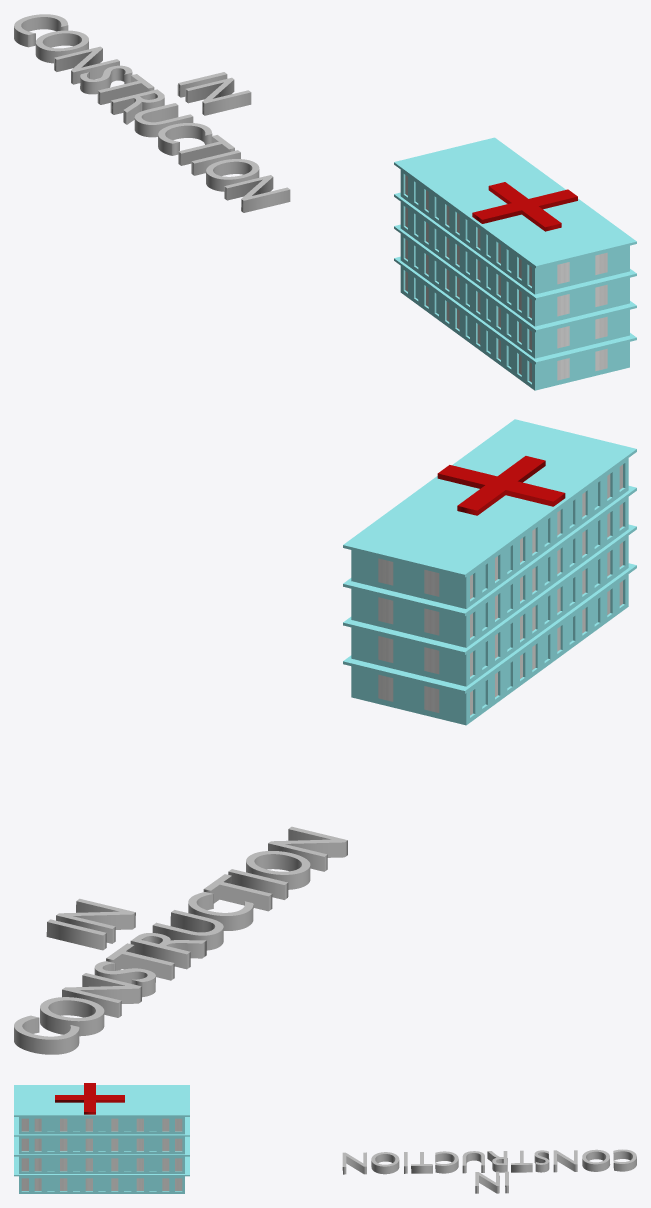
Rendered from Medic2.obj.
3 views of the same model, one above another, from view 1: azimuth 30°, elevation 25°; view 2: azimuth 150°, elevation 25°; view 3: azimuth 270°, elevation 25° (orthographic). The views are drawn at different scales.
Parts seen in each view (by area): view 1: Plane.071, Text.001, Text.037; view 2: Plane.071, Text.001, Text.037; view 3: Plane.071, Text.001, Text.037.
Boxes of the visible parts, x1=… form: Plane.071: x1=394, y1=137, x2=636, y2=390; Text.001: x1=14, y1=14, x2=290, y2=212; Text.037: x1=472, y1=182, x2=577, y2=231; Plane.071: x1=343, y1=419, x2=636, y2=725; Text.001: x1=14, y1=826, x2=347, y2=1054; Text.037: x1=437, y1=456, x2=565, y2=515; Plane.071: x1=14, y1=1085, x2=189, y2=1193; Text.001: x1=342, y1=1149, x2=636, y2=1193; Text.037: x1=55, y1=1083, x2=124, y2=1114.
Size of the model in its own units: 5.54 by 5.75 by 37.65.
4 materials, 2 textured.
